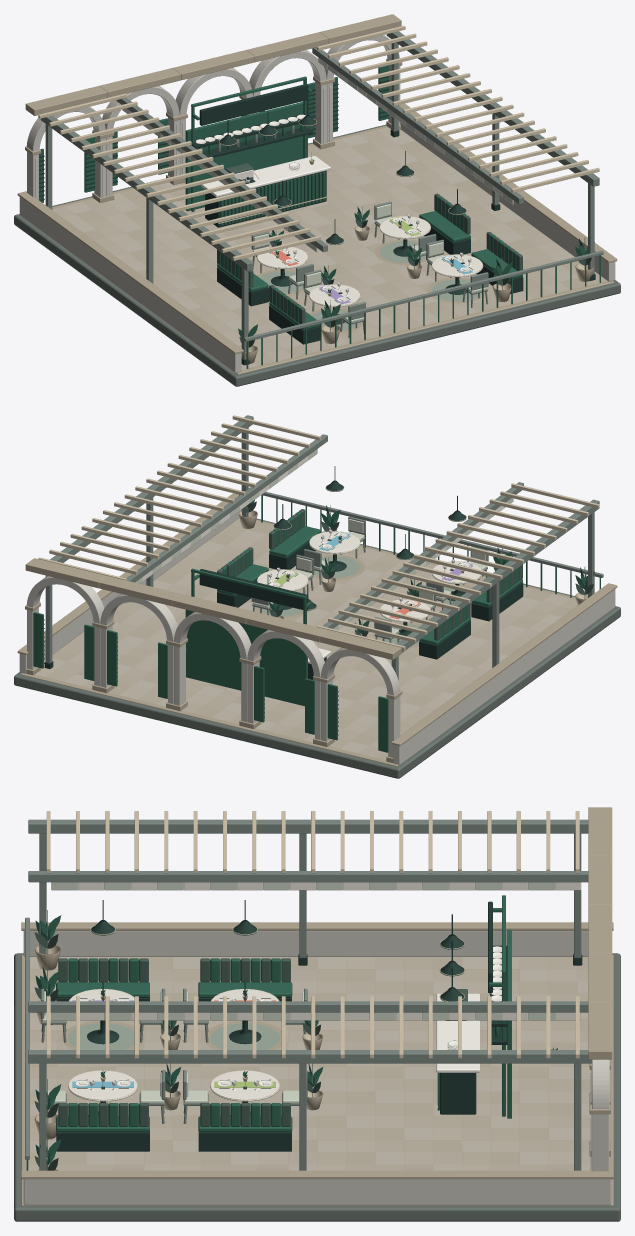
File: restaurant.glb
3 renders of one model, top to bottom at view 1: azimuth 30°, elevation 25°; view 2: azimuth 150°, elevation 25°; view 3: azimuth 270°, elevation 25°, orthographic. The views are drawn at different scales.
Parts seen in each view (by area): view 1: Piedra / arquitectura / suelo, Carpintería / molduras, Lino / tapicería, Porcelana / barra / vajilla, Herrajes / luminarias, Vegetación modelada; view 2: Piedra / arquitectura / suelo, Carpintería / molduras, Lino / tapicería, Porcelana / barra / vajilla, Herrajes / luminarias, Vegetación modelada; view 3: Piedra / arquitectura / suelo, Carpintería / molduras, Lino / tapicería, Porcelana / barra / vajilla, Herrajes / luminarias, Vegetación modelada.
Boxes of the visible parts, x1=… form: Piedra / arquitectura / suelo: x1=14, y1=14, x2=620, y2=386; Carpintería / molduras: x1=38, y1=25, x2=603, y2=368; Lino / tapicería: x1=122, y1=58, x2=522, y2=329; Porcelana / barra / vajilla: x1=195, y1=114, x2=594, y2=363; Herrajes / luminarias: x1=218, y1=100, x2=595, y2=365; Vegetación modelada: x1=238, y1=206, x2=594, y2=347; Piedra / arquitectura / suelo: x1=14, y1=493, x2=620, y2=778; Carpintería / molduras: x1=33, y1=415, x2=603, y2=752; Lino / tapicería: x1=135, y1=449, x2=522, y2=644; Porcelana / barra / vajilla: x1=238, y1=510, x2=587, y2=663; Herrajes / luminarias: x1=44, y1=466, x2=482, y2=668; Vegetación modelada: x1=186, y1=494, x2=594, y2=652; Piedra / arquitectura / suelo: x1=14, y1=807, x2=620, y2=1221; Carpintería / molduras: x1=25, y1=811, x2=591, y2=1170; Lino / tapicería: x1=42, y1=882, x2=581, y2=1132; Porcelana / barra / vajilla: x1=34, y1=945, x2=501, y2=1170; Herrajes / luminarias: x1=68, y1=900, x2=582, y2=1115; Vegetación modelada: x1=34, y1=915, x2=557, y2=1170.
Size of the model in its own units: 12.6 by 3.79 by 12.6.
